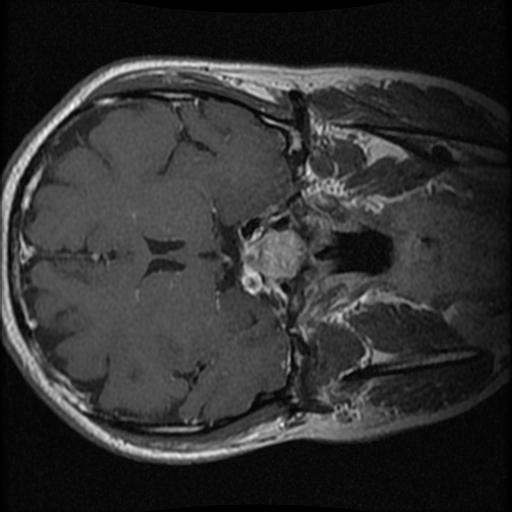pituitary tumour: (243, 241, 260, 274)
